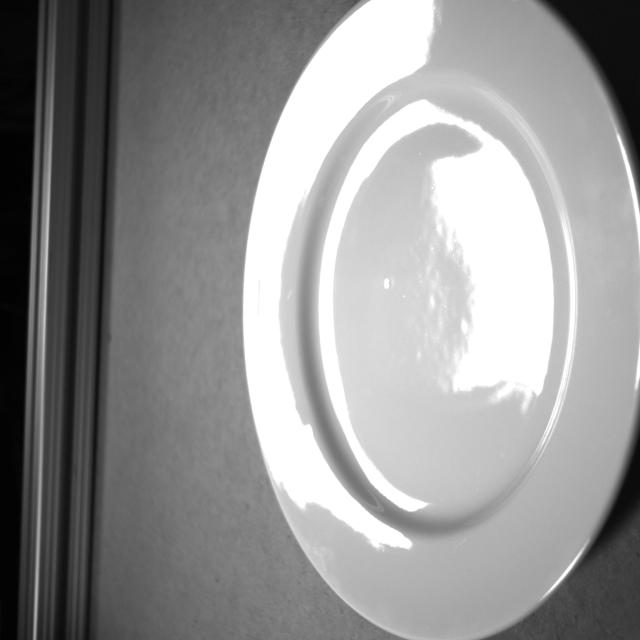plate: (235, 0, 640, 640)
